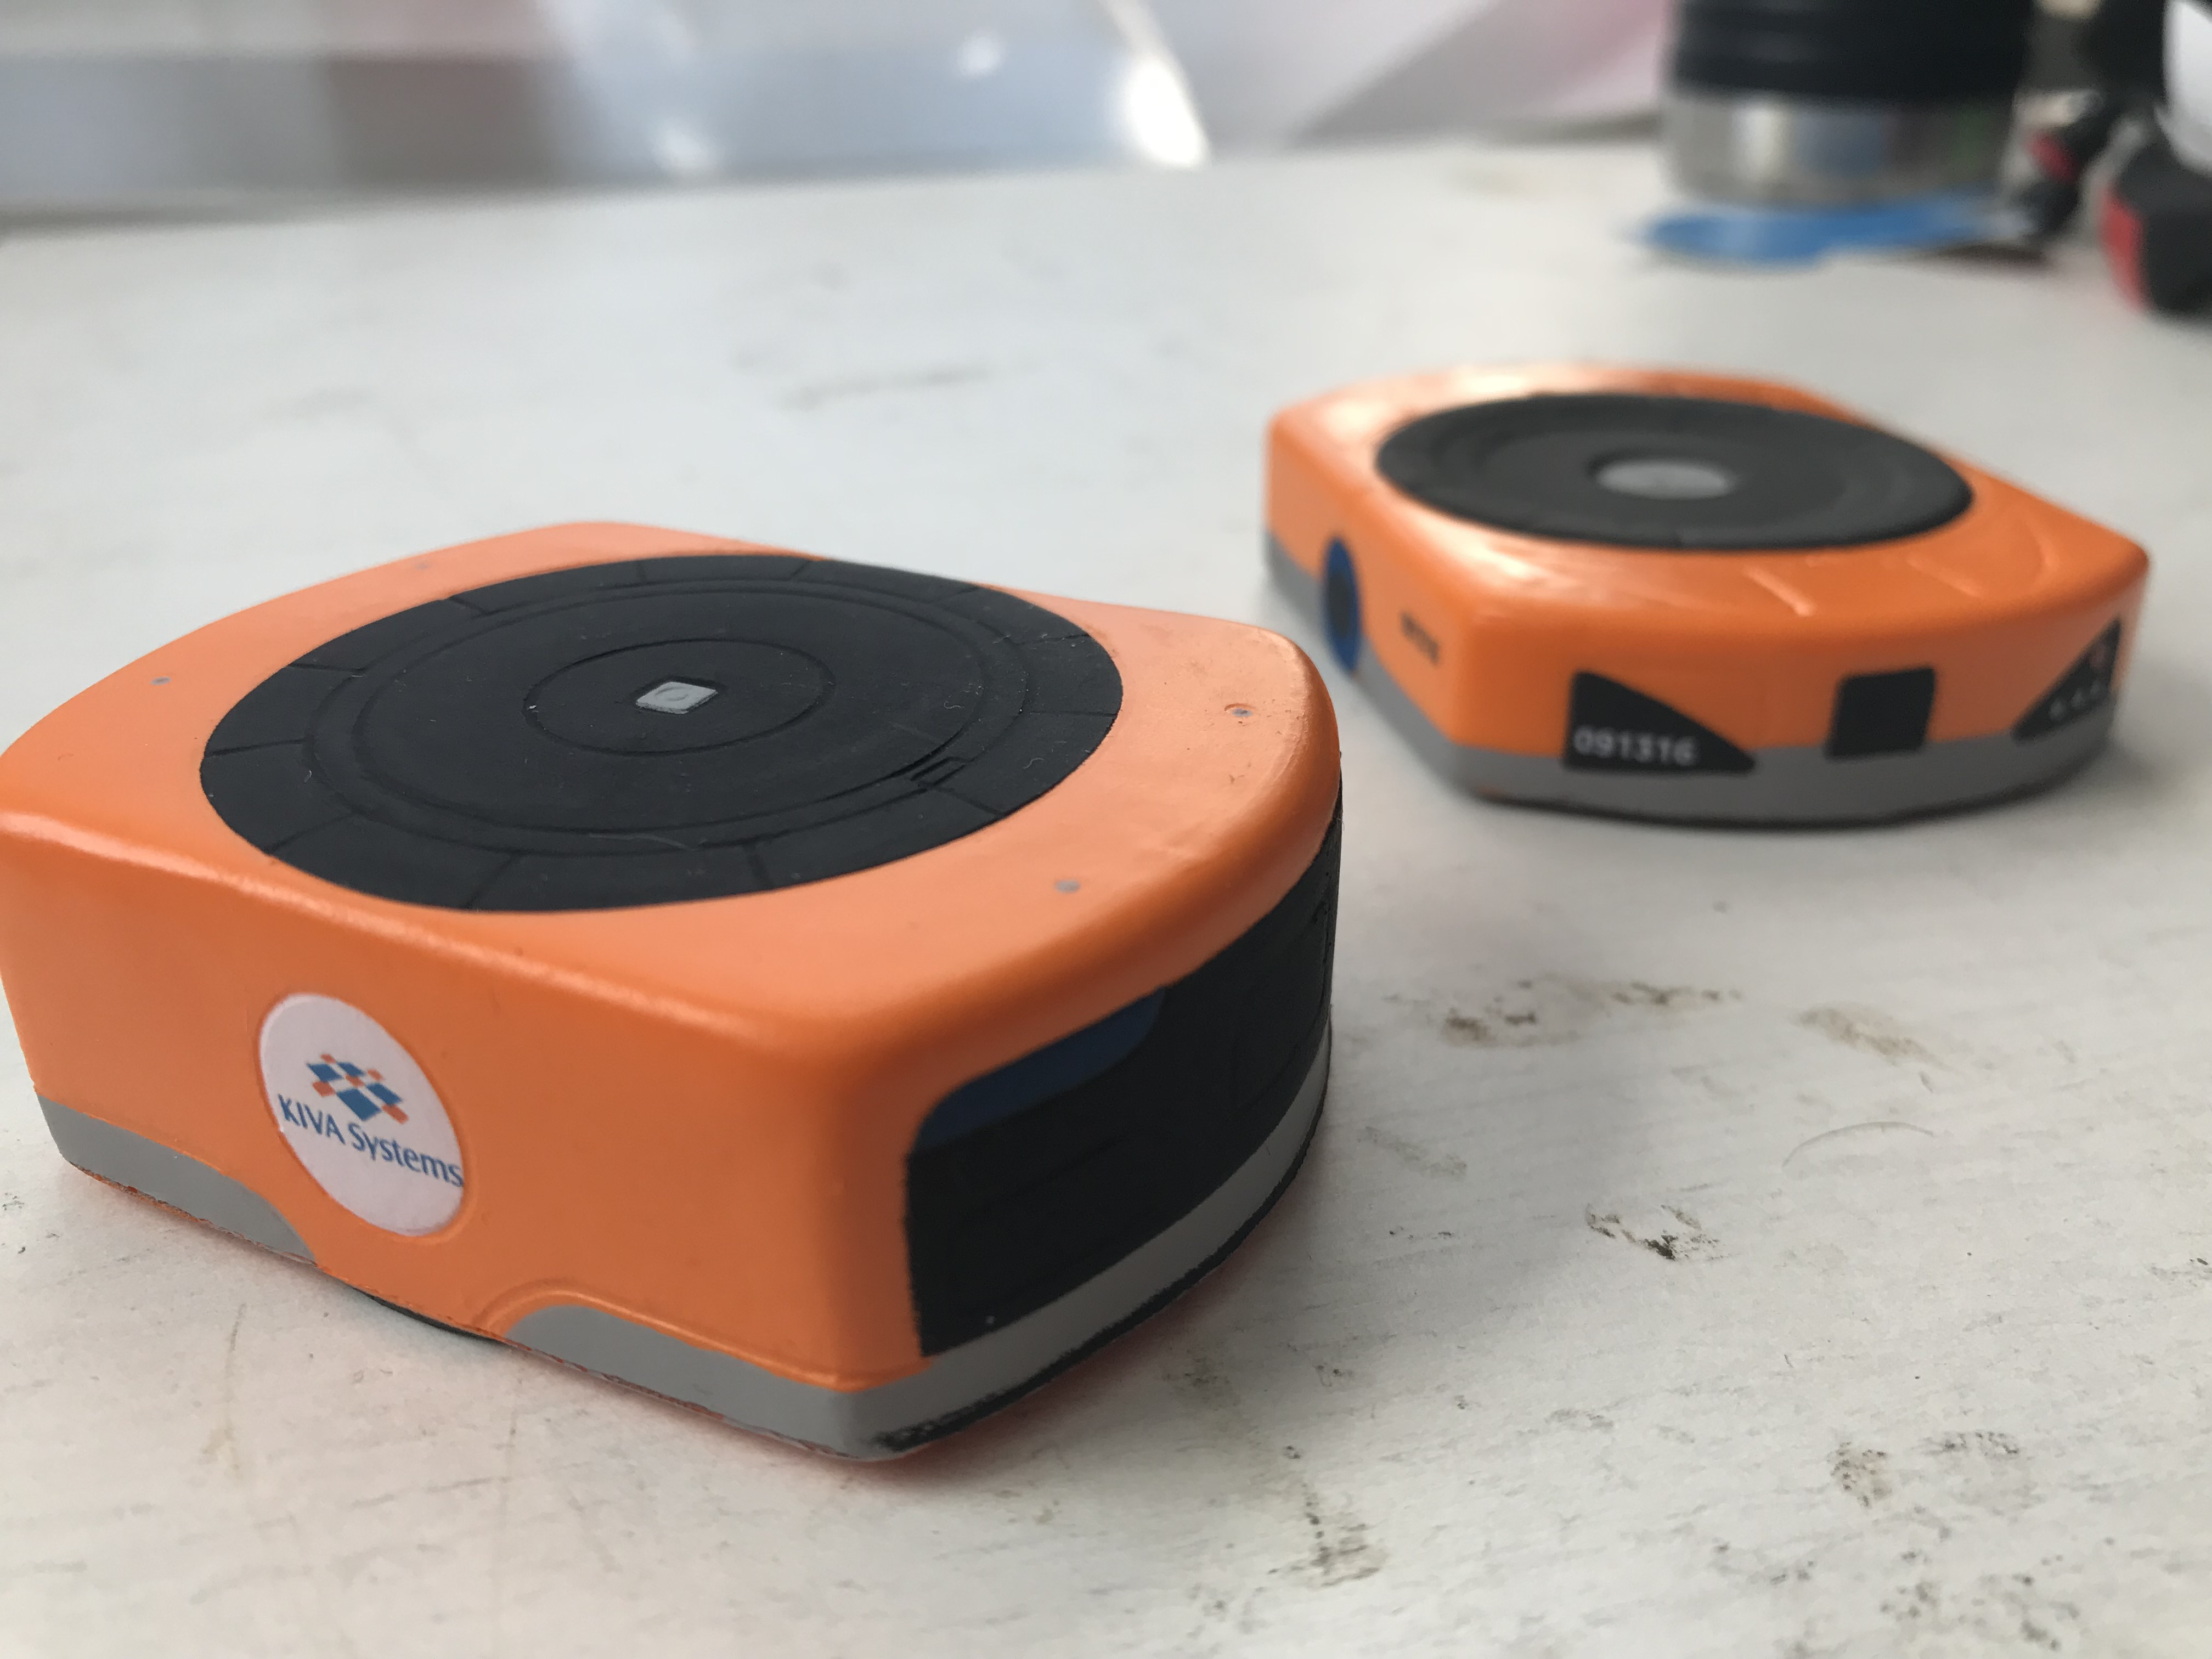amazon_bot: (7, 491, 1364, 1486), (1264, 361, 2196, 864)
